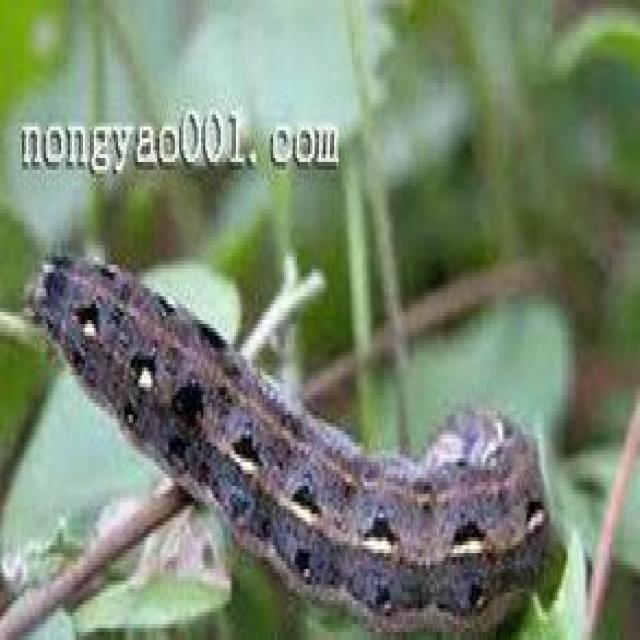BeetArmyWorm-Larva-: (22, 234, 553, 636)
